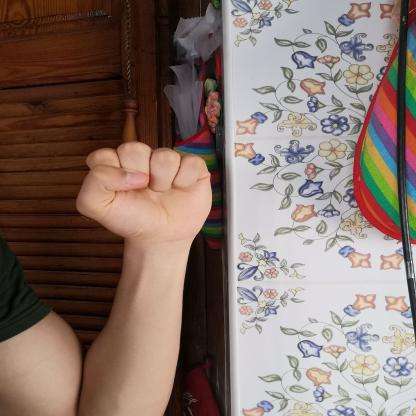SAD: (54, 132, 241, 251)
